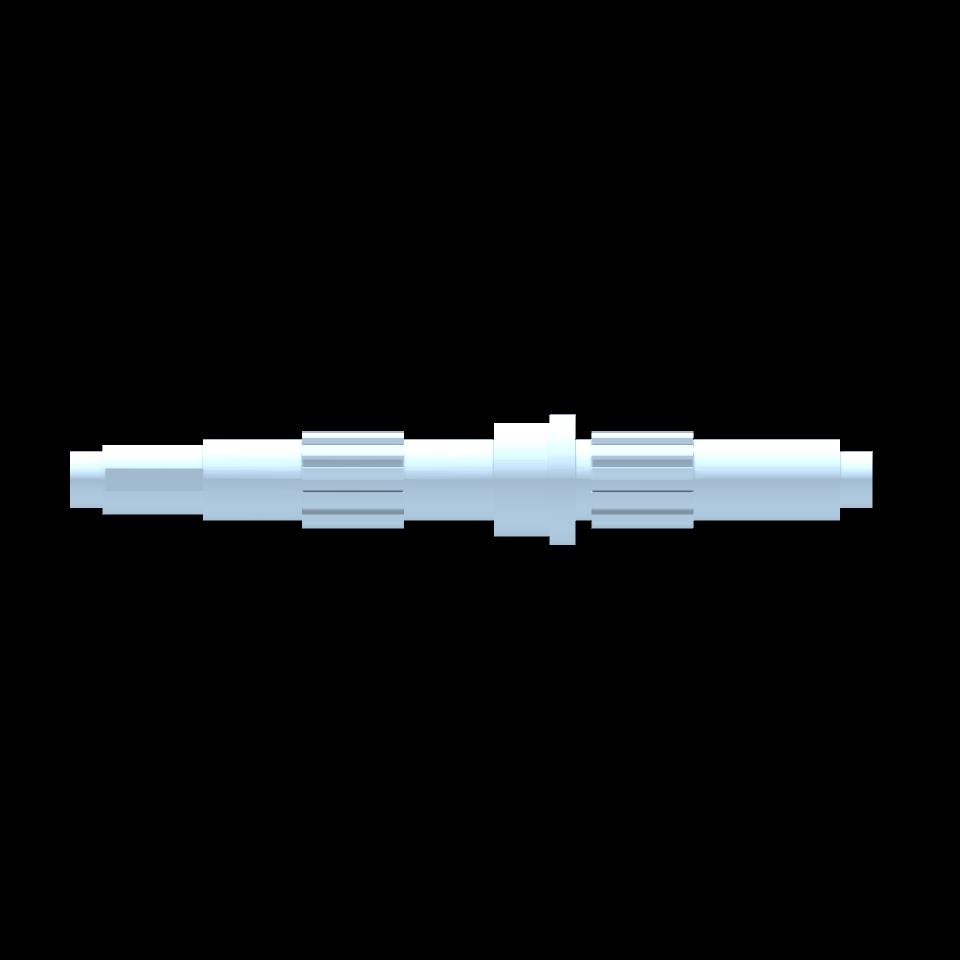Straight: (302, 431, 406, 528), (593, 433, 695, 528)
